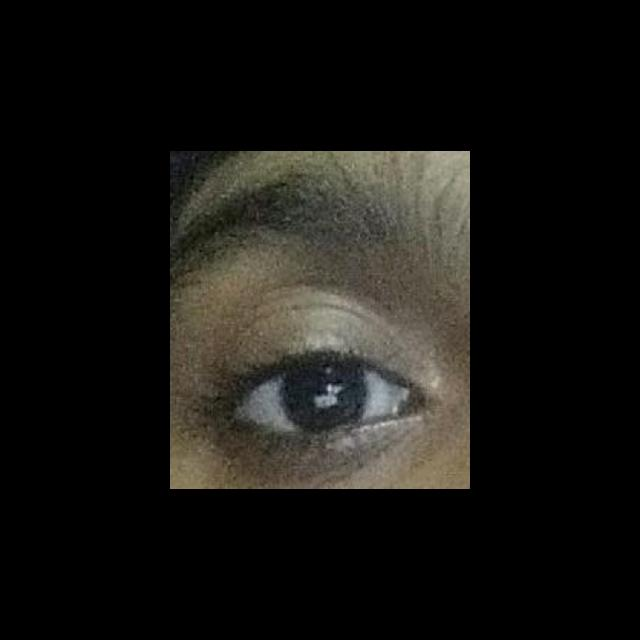eye: (239, 362, 397, 436)
iris: (279, 366, 367, 430)
